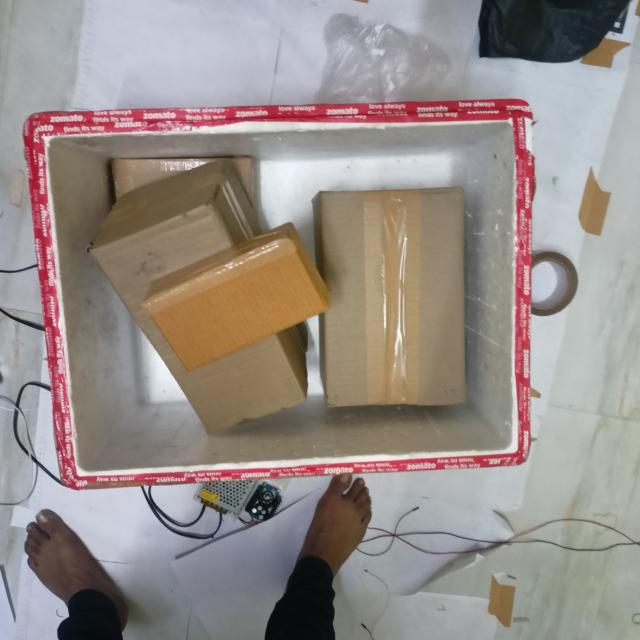box: (329, 191, 471, 403), (146, 244, 332, 372)
